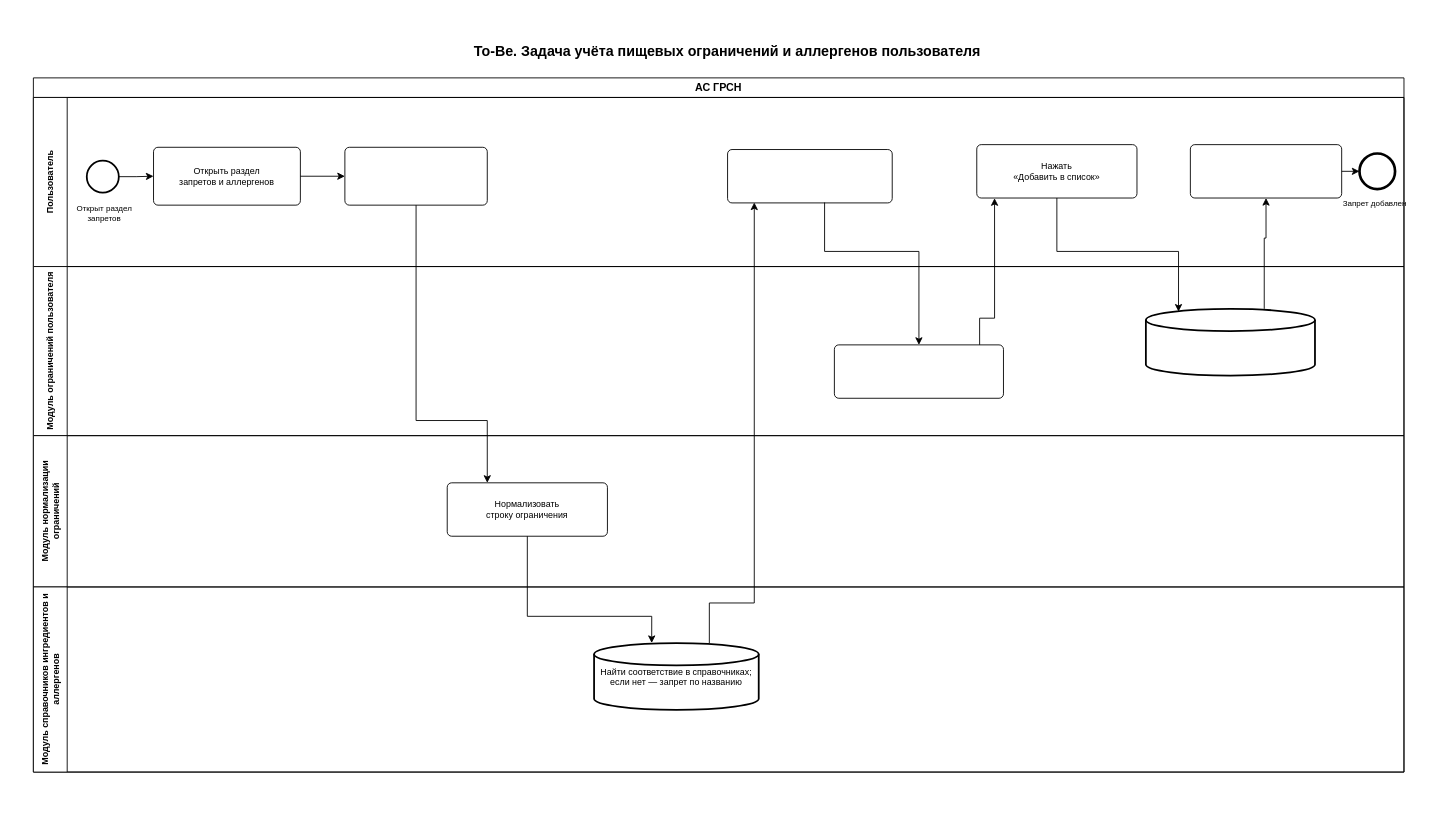
Image size: 1454x831. Some labels were removed from this diagram. The shapes that lost their labels are listed below. From the top down, each one's centre as x and y in pixels, then its label:
(x=415, y=175): Ввести продукт или вещество
(x=809, y=176): Выбрать найденное соответствие
(x=1265, y=171): Просмотреть список запретов (удалить или очистить)
(x=1230, y=341): Сохранить запрет пользователя
(x=918, y=371): Проверить повтор и добавить запрет в список
